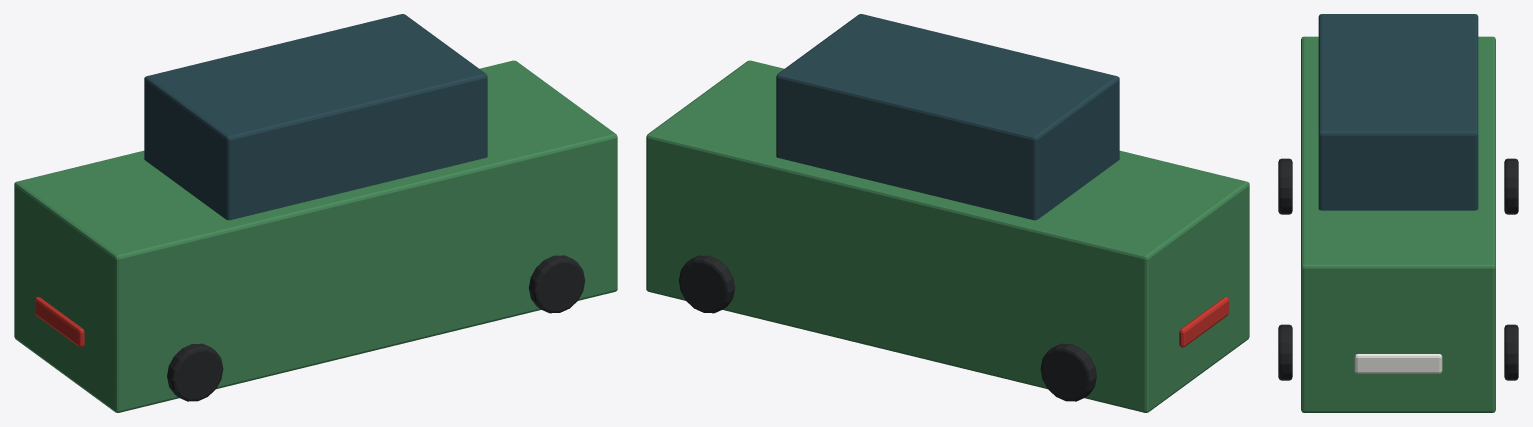
File: Vehicle_010.glb
3 views of the same model, side by side, from view 1: azimuth 30°, elevation 25°; view 2: azimuth 150°, elevation 25°; view 3: azimuth 270°, elevation 25° (orthographic). The views are drawn at different scales.
Visible parts, largest first — view 1: Vehicle_010; view 2: Vehicle_010; view 3: Vehicle_010.
Boxes of the visible parts, left/top/right/bottom form: Vehicle_010: left=14, top=14, right=617, bottom=412; Vehicle_010: left=646, top=14, right=1249, bottom=412; Vehicle_010: left=1278, top=14, right=1518, bottom=412.
Size of the model in its own units: 7.22 by 3.2 by 3.08.
